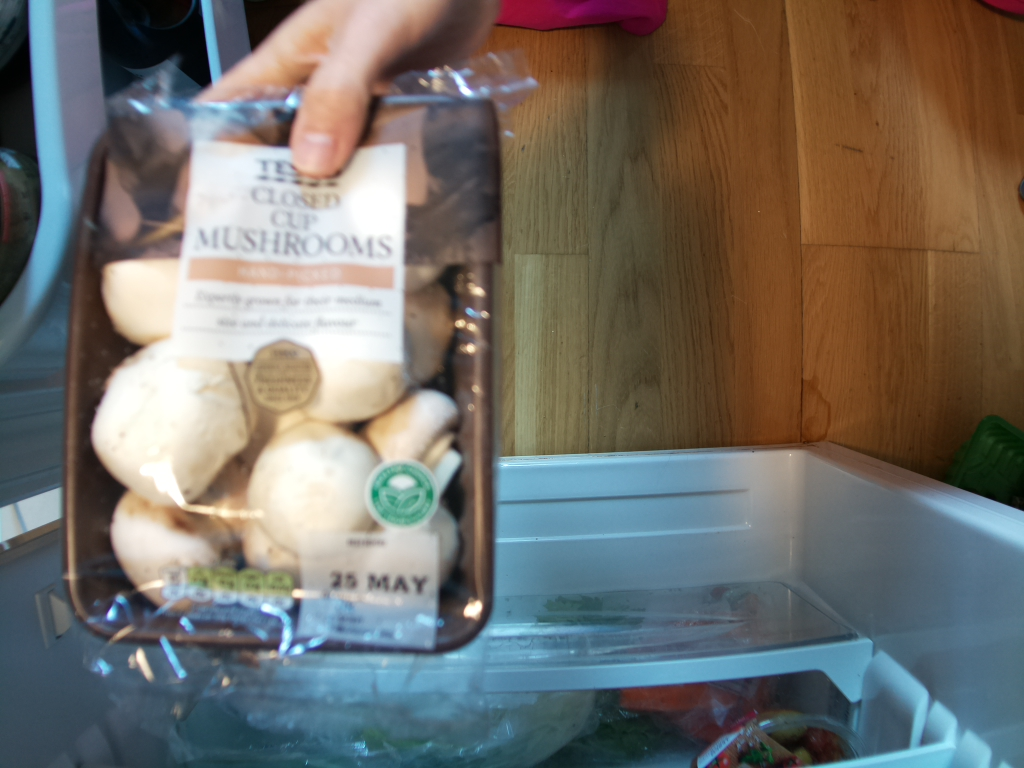mushrooms: (62, 79, 499, 667)
